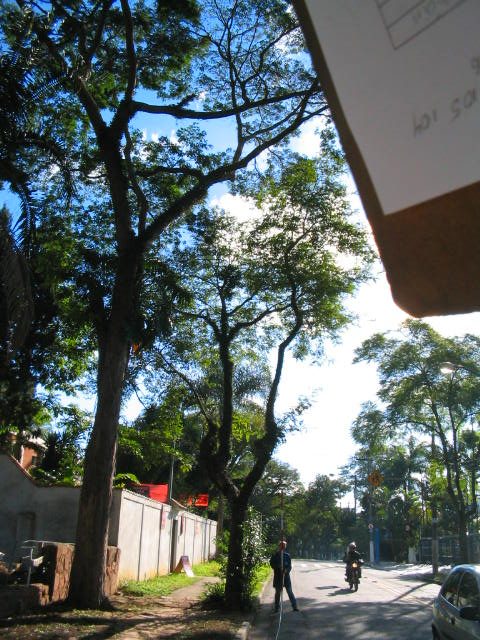crown: (40, 131, 378, 396)
stem: (216, 498, 253, 609)
stick: (274, 488, 287, 612)
tree: (37, 128, 377, 611)
